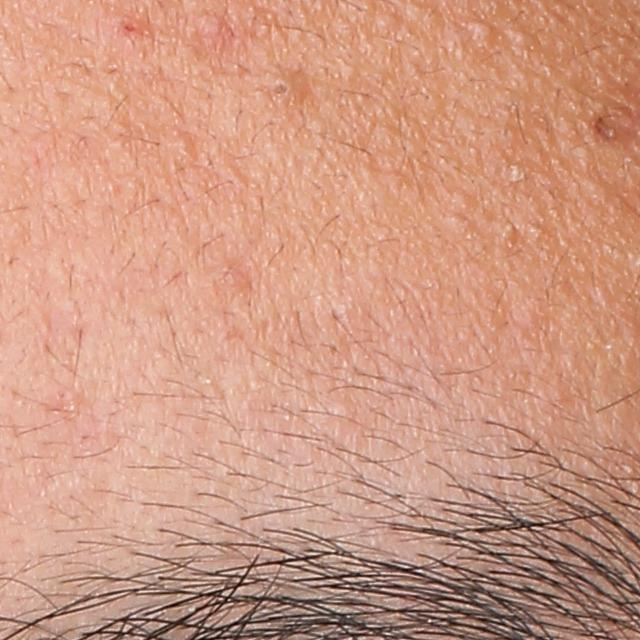comedo: (466, 16, 495, 43), (163, 132, 193, 158), (266, 77, 292, 102), (511, 24, 537, 48)
